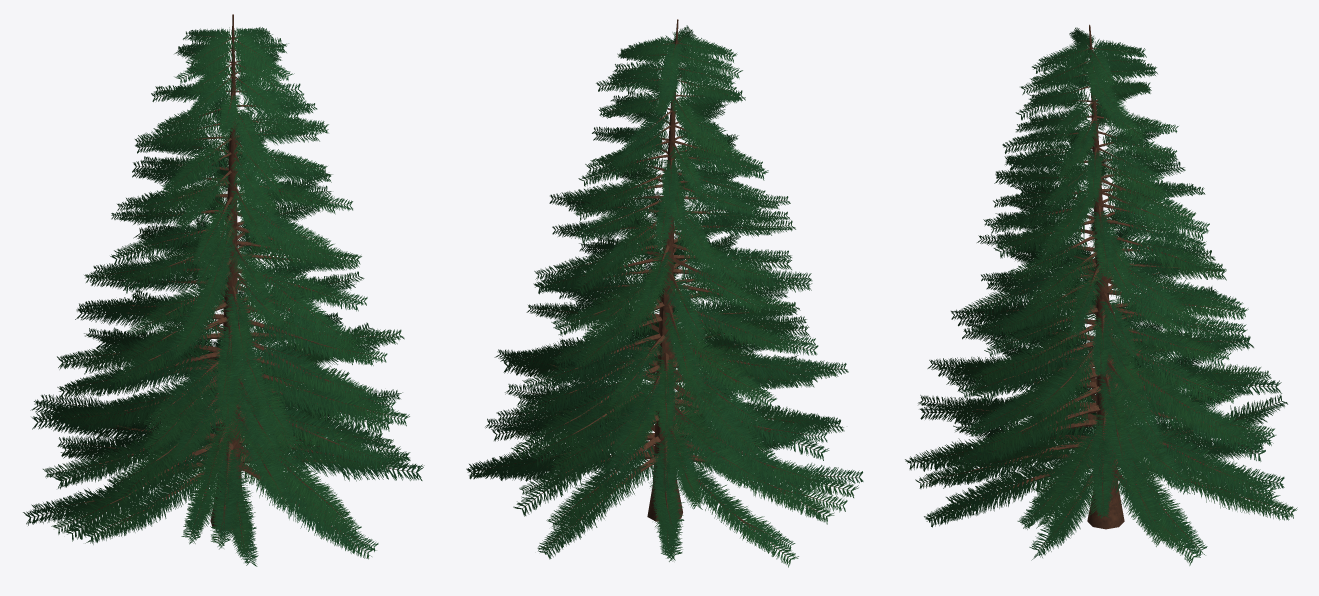
File: tree_pine_b.glb
The picture shows the model from 3 angles, left to right: view 1: azimuth 30°, elevation 25°; view 2: azimuth 150°, elevation 25°; view 3: azimuth 270°, elevation 25°; orthographic projection. The views are drawn at different scales.
Parts seen in each view (by area): view 1: tree_pine_b; view 2: tree_pine_b; view 3: tree_pine_b.
Boxes of the visible parts, x1,y1,x2,y2 form: tree_pine_b: (23, 14, 424, 566); tree_pine_b: (466, 19, 863, 567); tree_pine_b: (905, 24, 1297, 565).
Size of the model in its own units: 11 by 15.02 by 11.15.
Materials: 2 (2 with a texture image).
